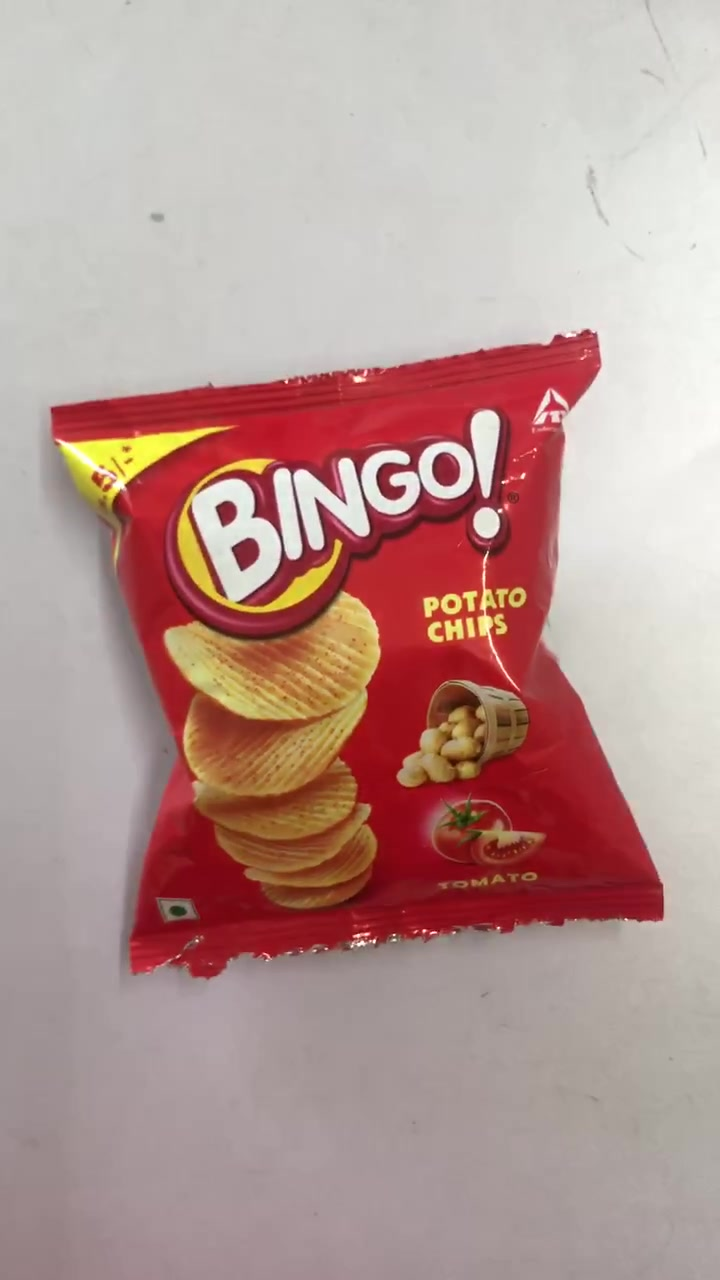Bingo: (58, 374, 662, 938)
